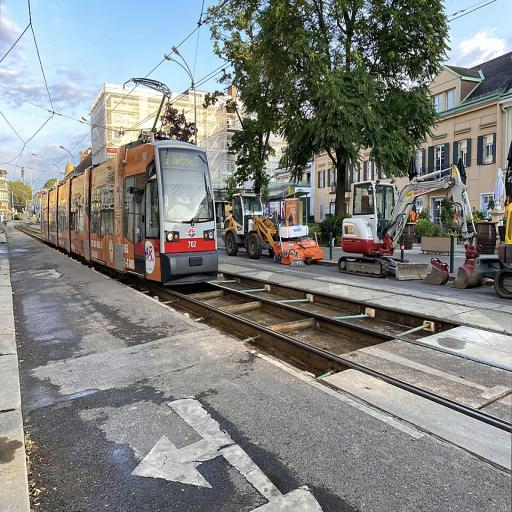ULF: (37, 141, 219, 286)
